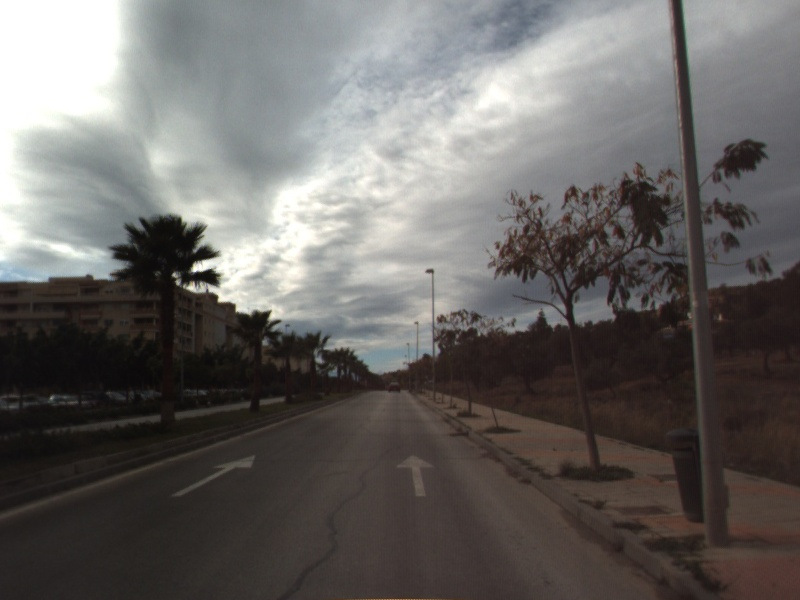STRAIGHT: (169, 452, 258, 499), (394, 453, 437, 498)
